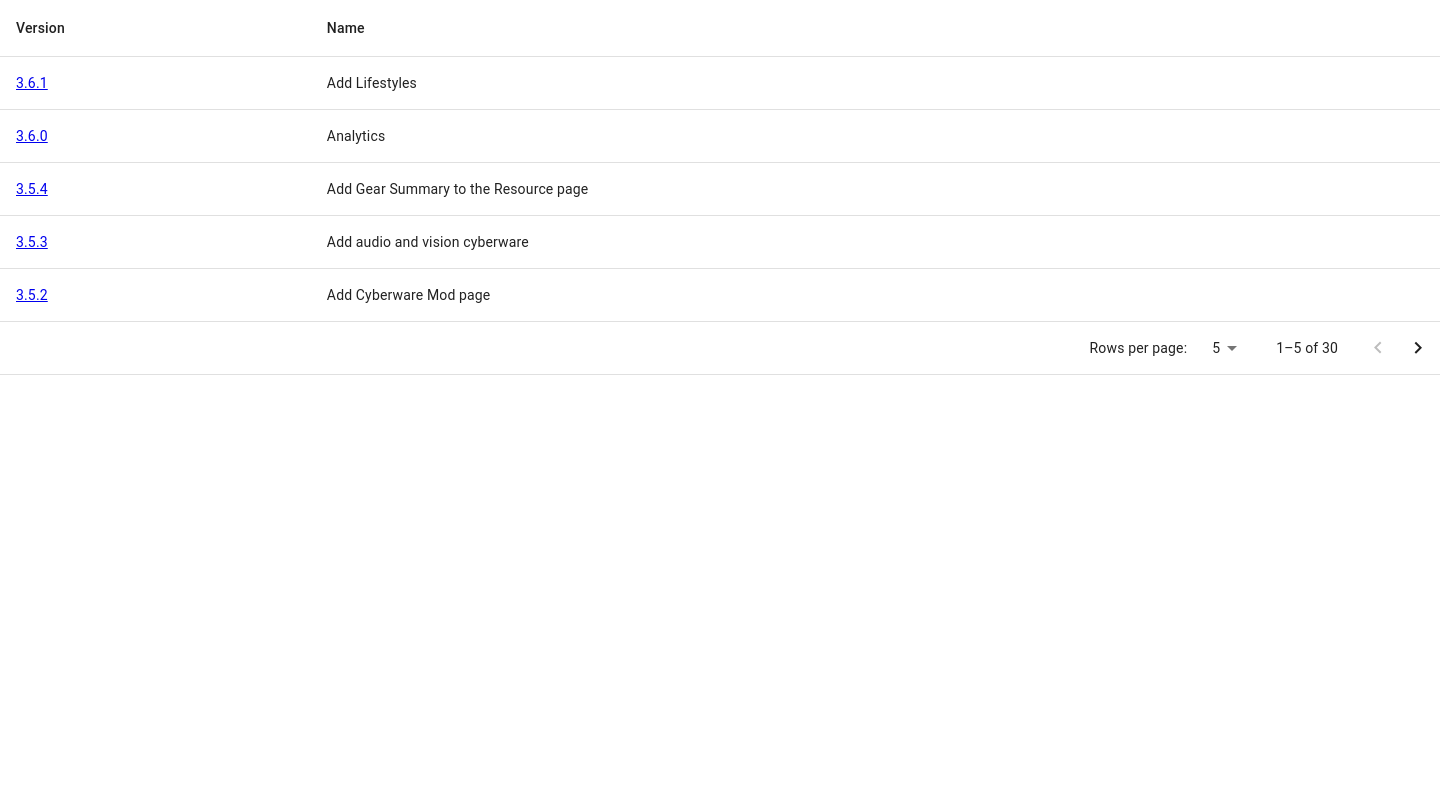
Test case: <ReleaseNotes/> › should support pagination
Expected: the link "3.6.1" is shown, [16,75,48,91]
Expected: the text "3.5.1" is not shown
Click the button named "Go to next page": coordinates (1418, 348) [1398,328,1438,368]
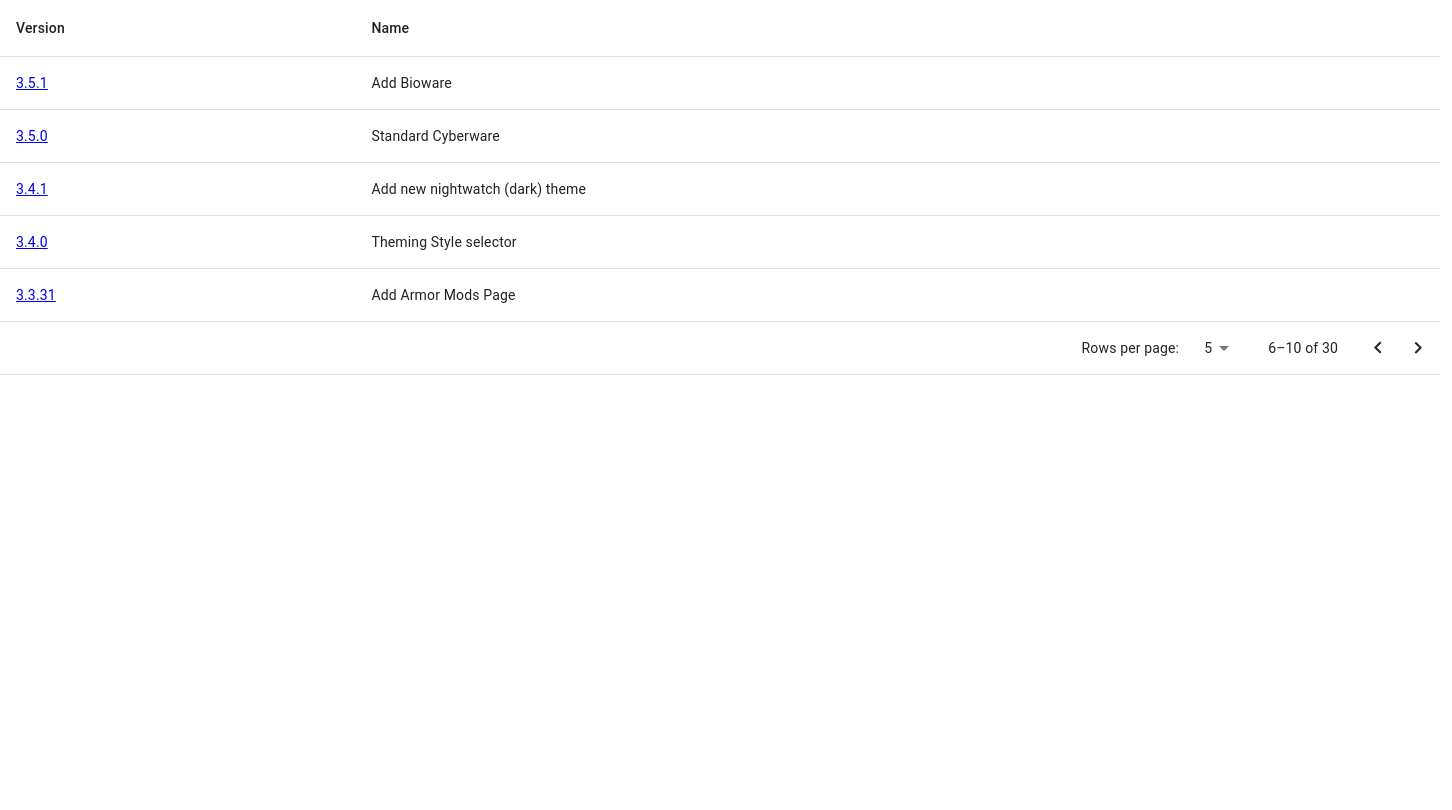
Expected: the link "3.5.1" is shown, [16,75,48,91]
Select "10" in the dropdown named "rows per page": coordinates (1212, 348) [1187,334,1236,363]
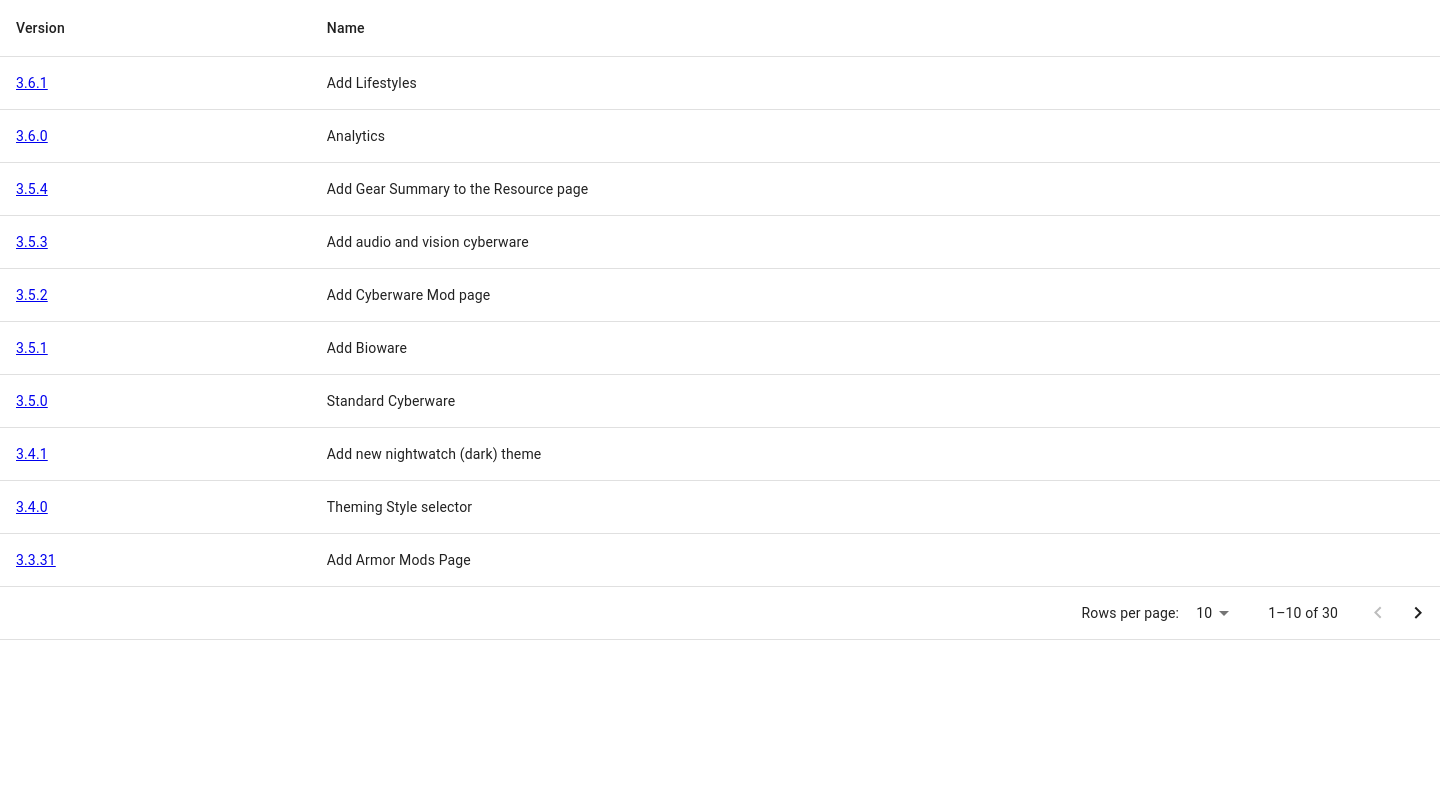
Expected: the link "3.5.1" is shown, [16,340,48,356]
Expected: the link "3.6.1" is shown, [16,75,48,91]
